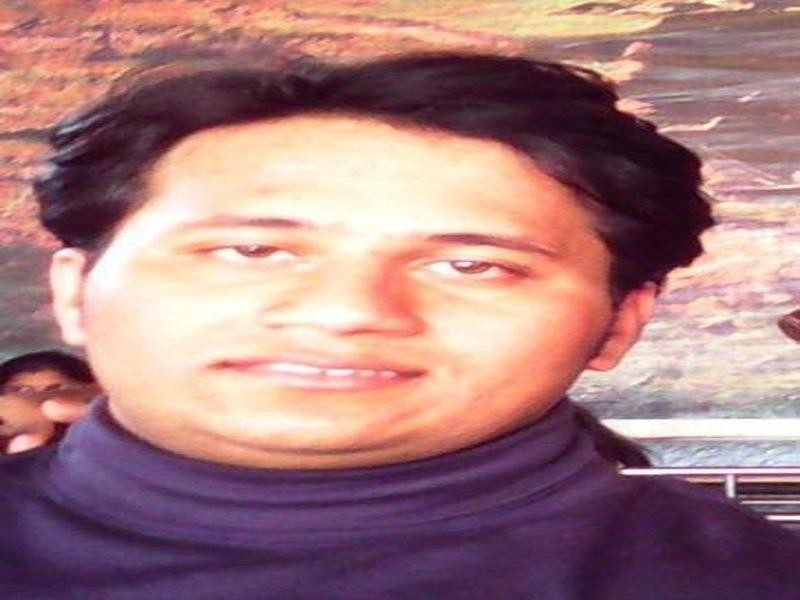without_mask: (90, 123, 613, 459)
